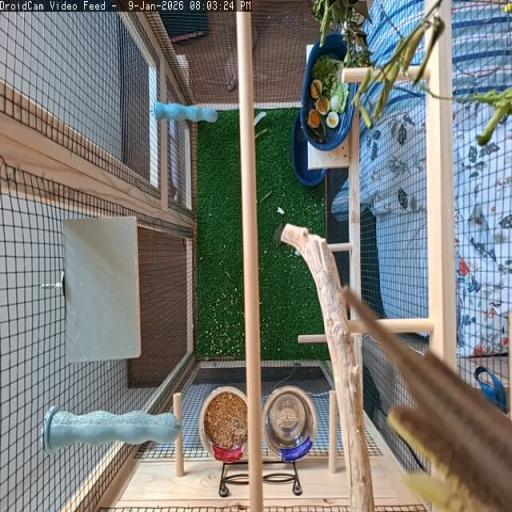bebedero: (263, 385, 316, 461)
comedero: (198, 386, 247, 463)
